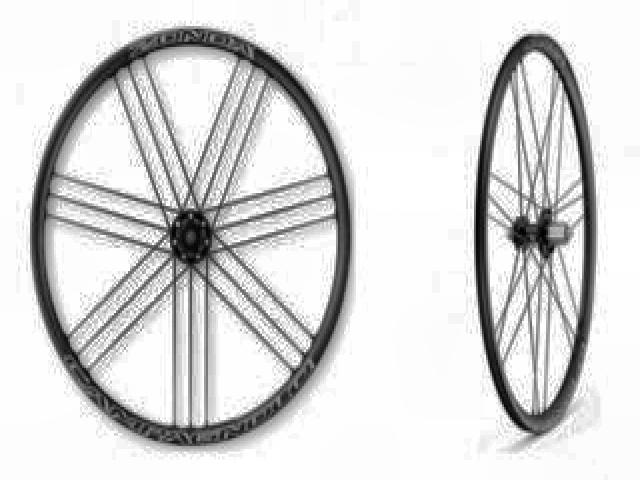wheel: (26, 20, 357, 450), (471, 28, 598, 437)
